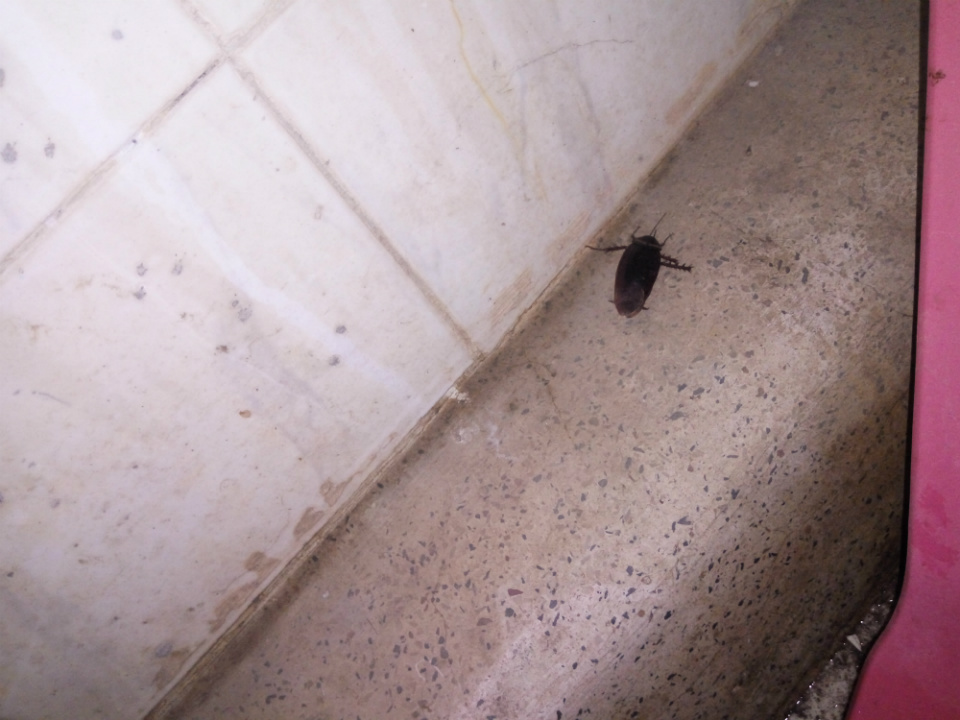cockroach: (551, 207, 715, 332)
